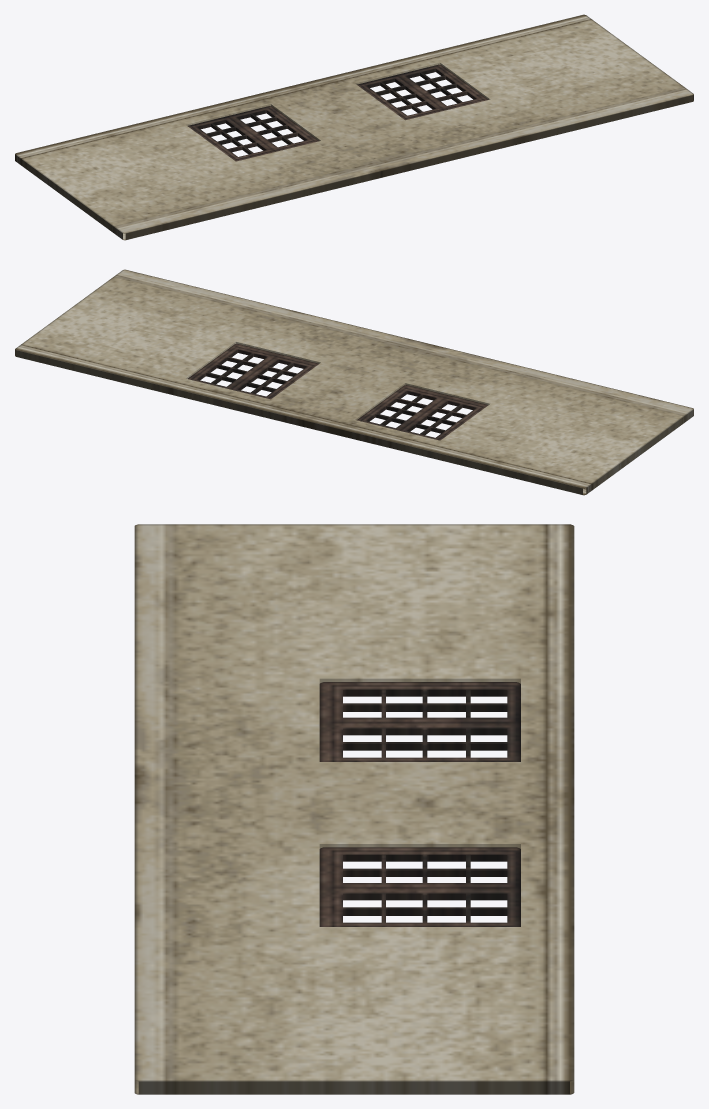
Rendered from SM_EC_House_Wall_Window_1_9x3_0.fbx.
3 views of the same model, one above another, from view 1: azimuth 30°, elevation 25°; view 2: azimuth 150°, elevation 25°; view 3: azimuth 270°, elevation 25° (orthographic). The views are drawn at different scales.
Parts seen in each view (by area): view 1: SM_EC_House_Wall_Window_1_9x3_0; view 2: SM_EC_House_Wall_Window_1_9x3_0; view 3: SM_EC_House_Wall_Window_1_9x3_0.
Part boxes in pixels (x1,y1,x2,y2): SM_EC_House_Wall_Window_1_9x3_0: (15, 14, 693, 240); SM_EC_House_Wall_Window_1_9x3_0: (15, 269, 693, 495); SM_EC_House_Wall_Window_1_9x3_0: (134, 524, 574, 1094).
Size of the model in its own units: 9 by 3 by 0.1.
